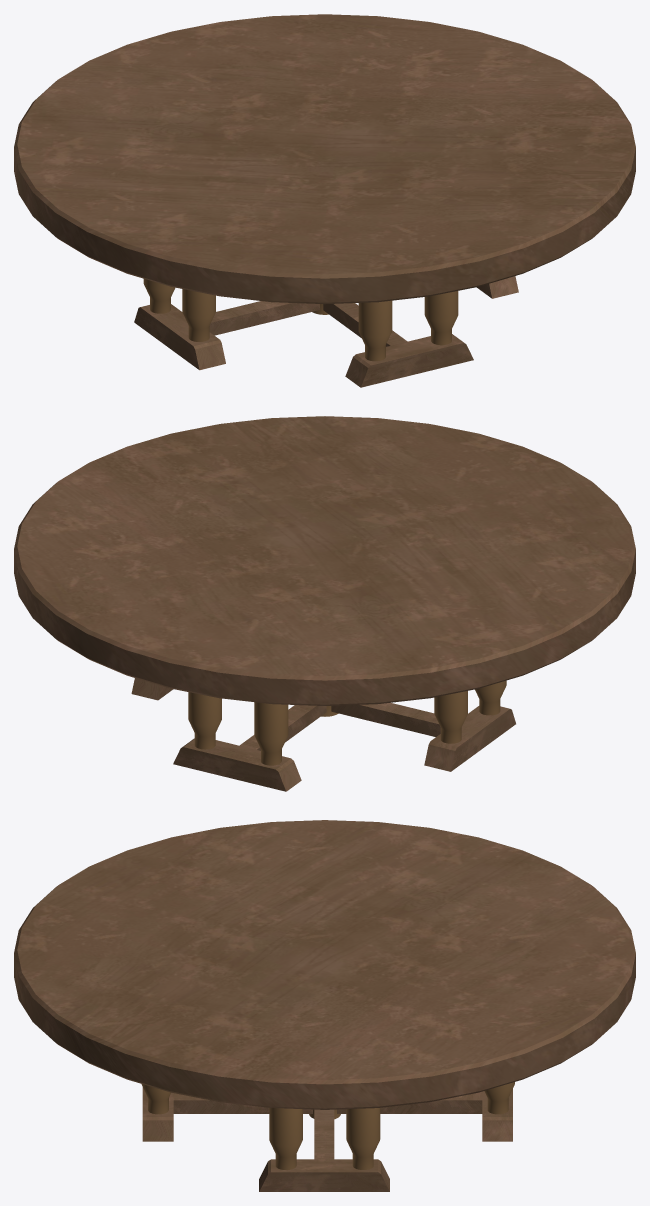
File: roundtable.glb
The picture shows the model from 3 angles, top to bottom: view 1: azimuth 30°, elevation 25°; view 2: azimuth 150°, elevation 25°; view 3: azimuth 270°, elevation 25°; orthographic projection.
Parts seen in each view (by area): view 1: roundtable_lo; view 2: roundtable_lo; view 3: roundtable_lo.
Part boxes in pixels (box(x1,y1,x2,y2)): roundtable_lo: box(14, 14, 635, 387); roundtable_lo: box(14, 416, 635, 791); roundtable_lo: box(14, 820, 635, 1191).
Size of the model in its own units: 4.73 by 1.38 by 4.73.
Materials: 2 (2 with a texture image).
